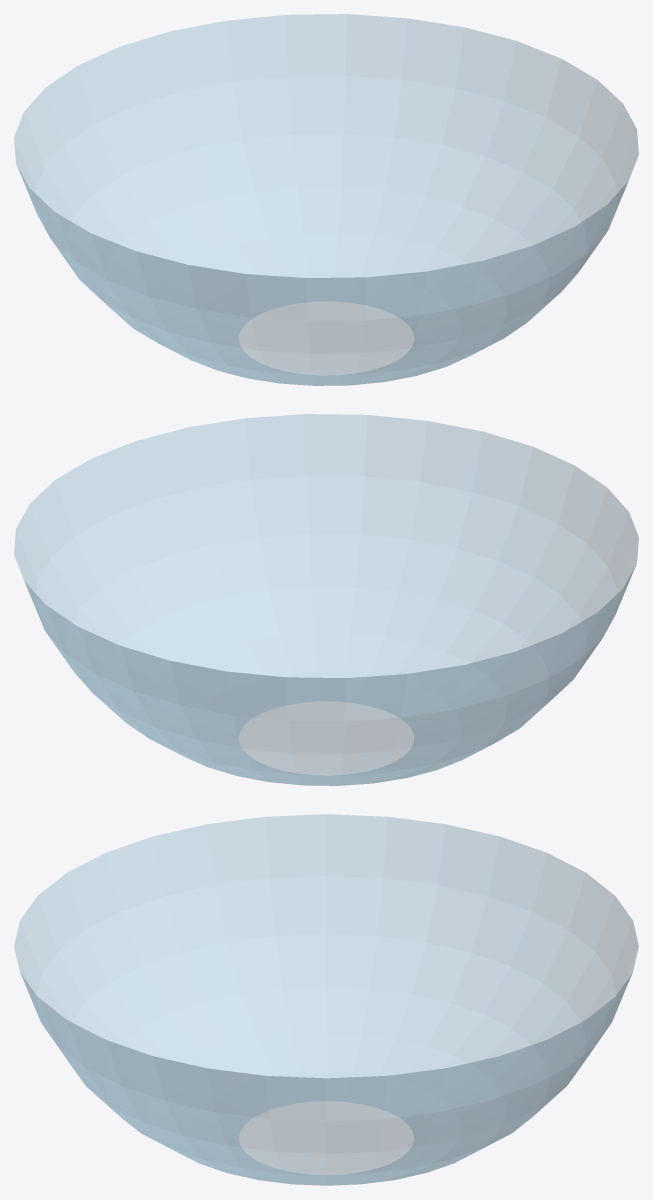
File: Bowl.glb
3 renders of one model, top to bottom at view 1: azimuth 30°, elevation 25°; view 2: azimuth 150°, elevation 25°; view 3: azimuth 270°, elevation 25°, orthographic.
Parts seen in each view (by area): view 1: Bowl; view 2: Bowl; view 3: Bowl.
Boxes of the visible parts, left/top/right/bottom form: Bowl: left=14, top=14, right=638, bottom=385; Bowl: left=14, top=414, right=638, bottom=785; Bowl: left=14, top=814, right=638, bottom=1185.
Size of what is drawn, in the model's own units: 3.65 by 1.24 by 3.65.
